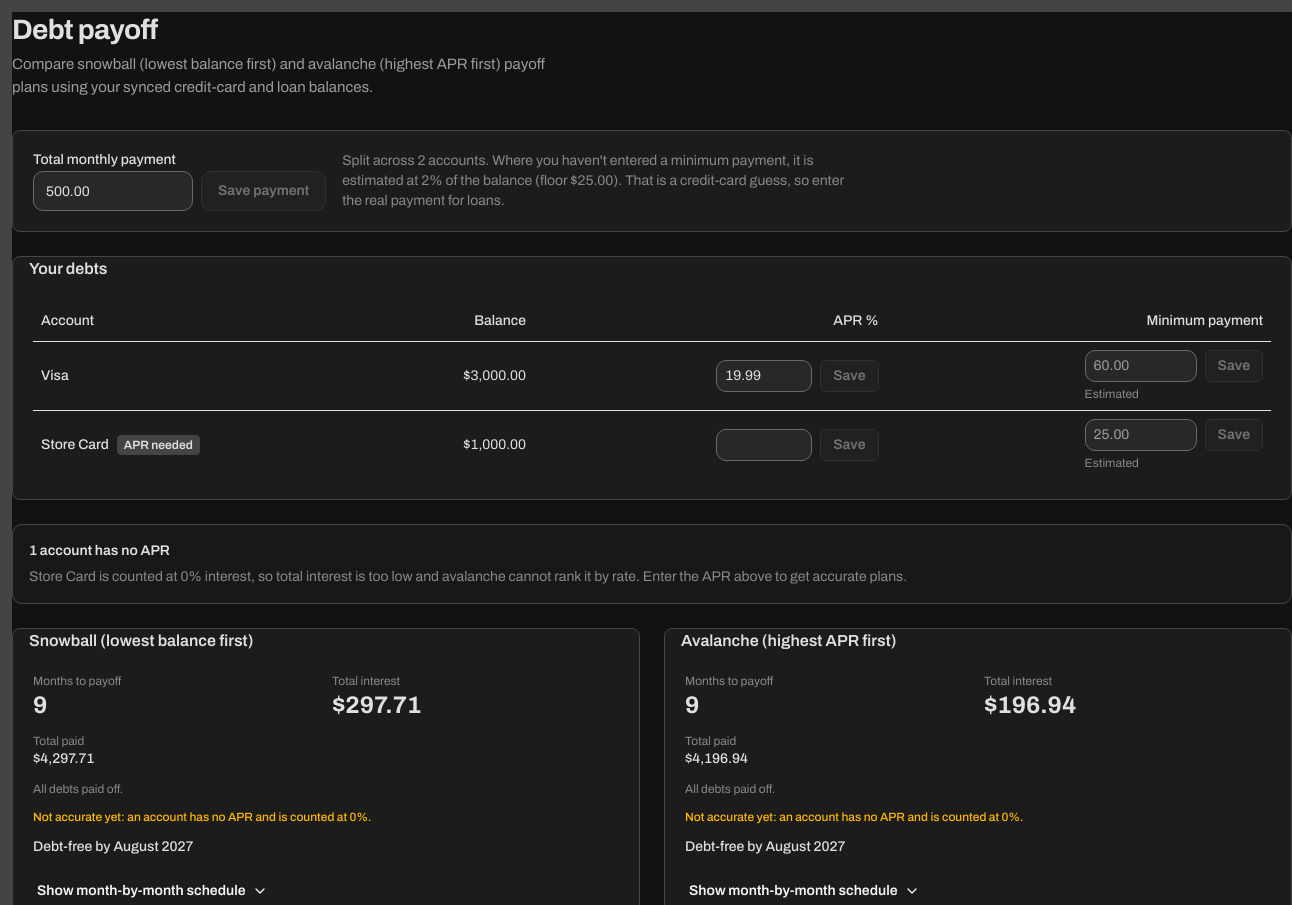
Test: DebtPayoffView APR › saves an edited APR as basis points through the account endpoint, then reloads and clears the warning
Expected: the button with test id "debt-apr-save-conn1:a2" is disabled, [820,428,879,460]
Type "24.5" into the field named "APR % for Store Card" at {"x": 764, "y": 444}, box [716,428,812,460]
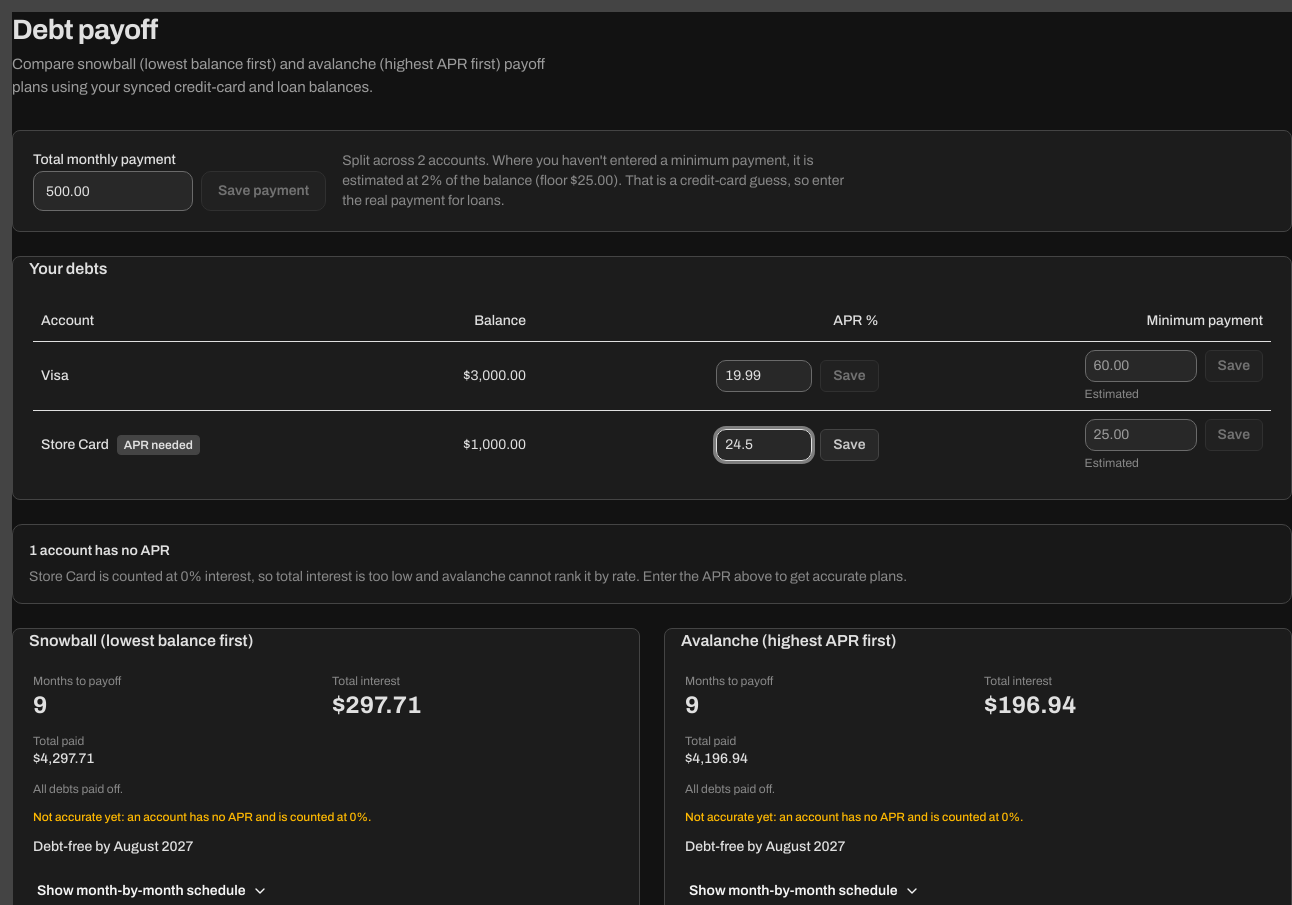
Click the button with test id "debt-apr-save-conn1:a2" at {"x": 850, "y": 444}, box [820,428,879,460]
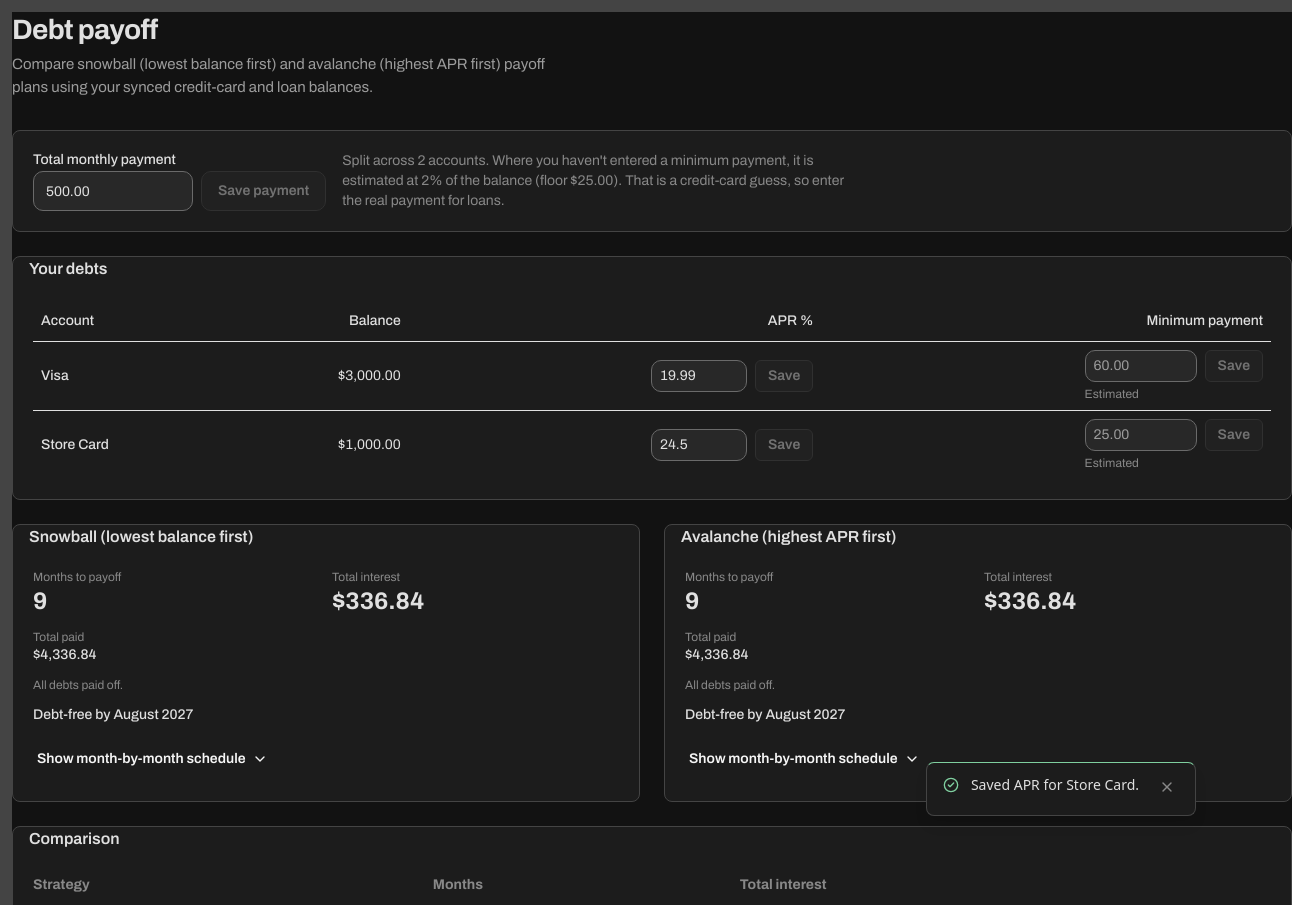
Expected: the message with test id "debt-apr-warning" is gone
